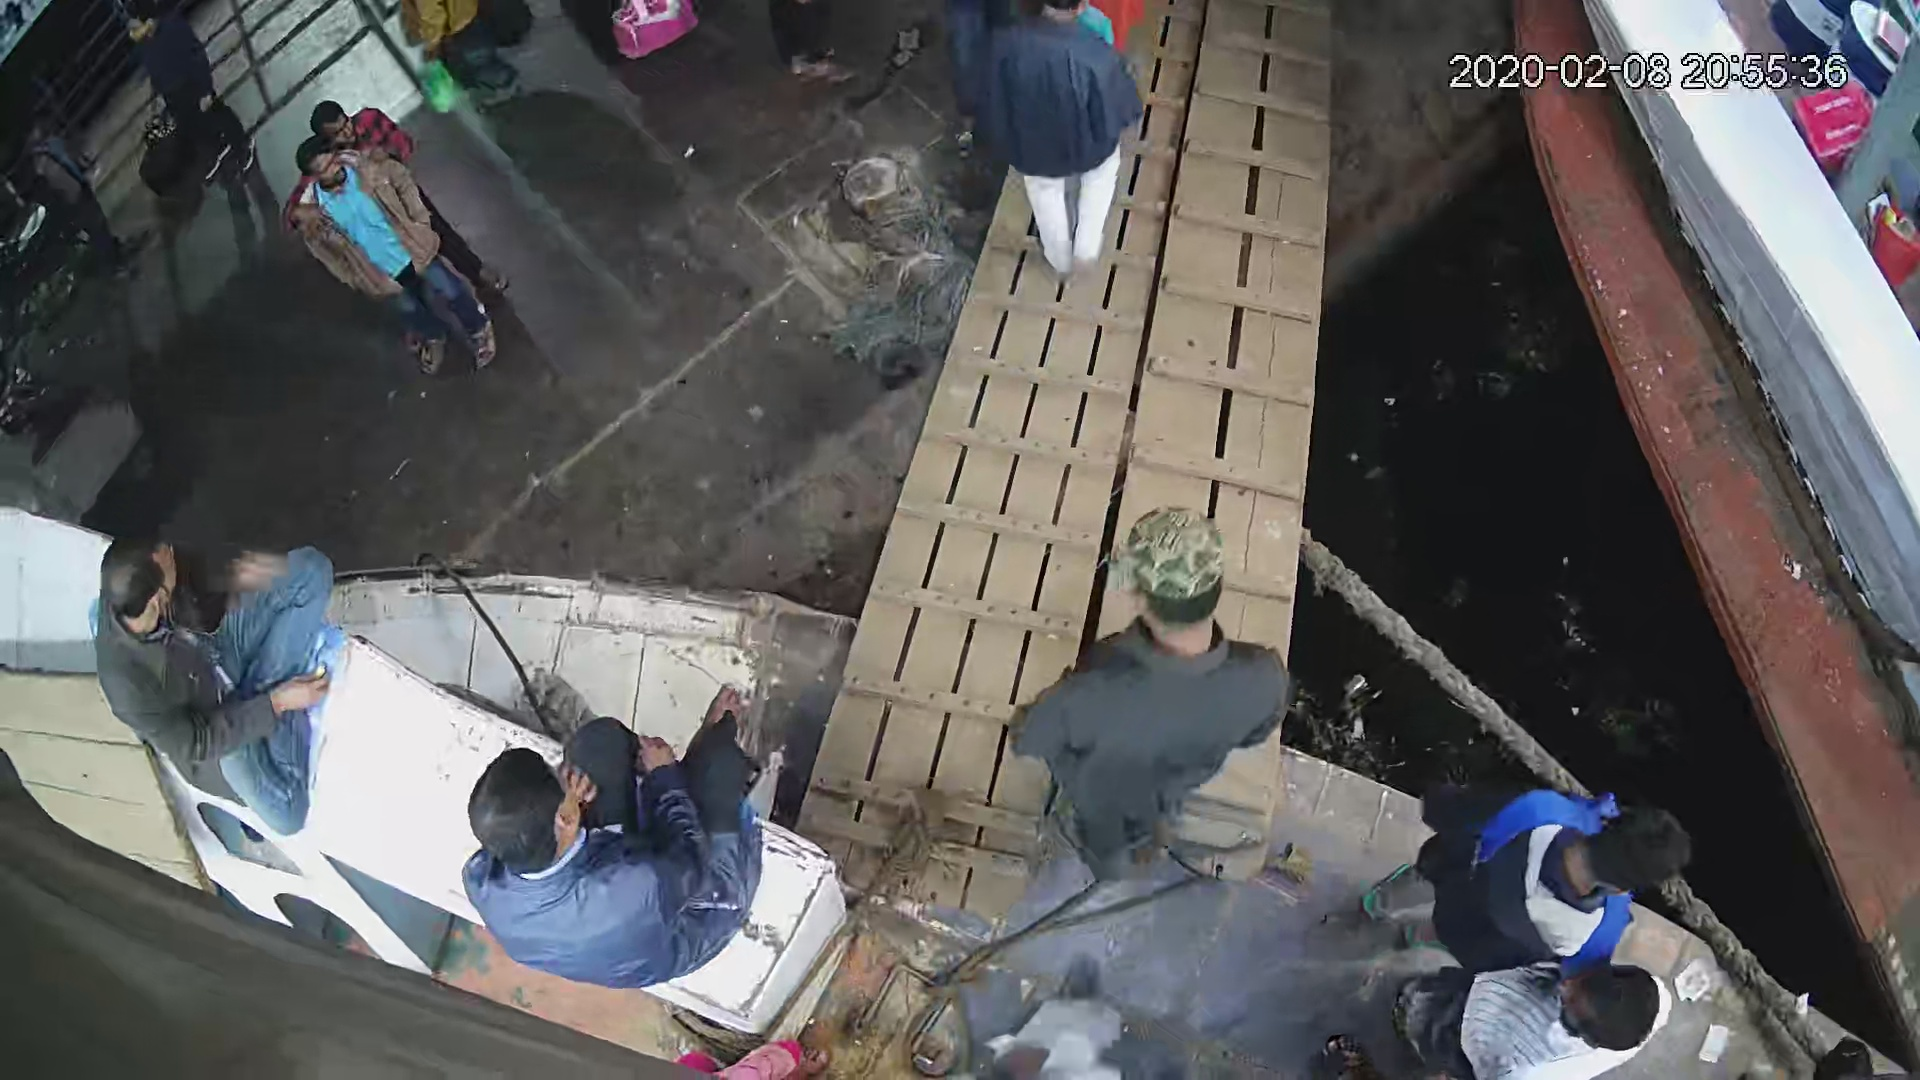person: (1002, 500, 1291, 892), (457, 675, 766, 995), (89, 531, 335, 836), (1354, 787, 1698, 981), (289, 132, 502, 378), (973, 1, 1145, 284), (1393, 960, 1675, 1080), (118, 8, 261, 180), (12, 110, 152, 280)
